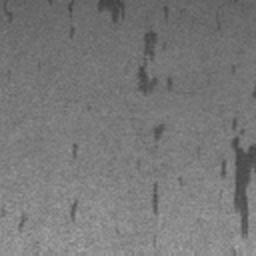Red iron sheet: (220, 119, 256, 237), (137, 5, 173, 96), (46, 0, 125, 38), (3, 0, 14, 22), (151, 184, 159, 214), (154, 123, 164, 140), (69, 202, 78, 220), (18, 211, 27, 229), (72, 142, 78, 157)
